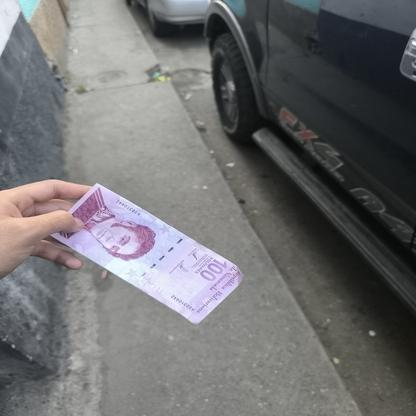one_hundred-front-vef: (48, 182, 245, 325)
